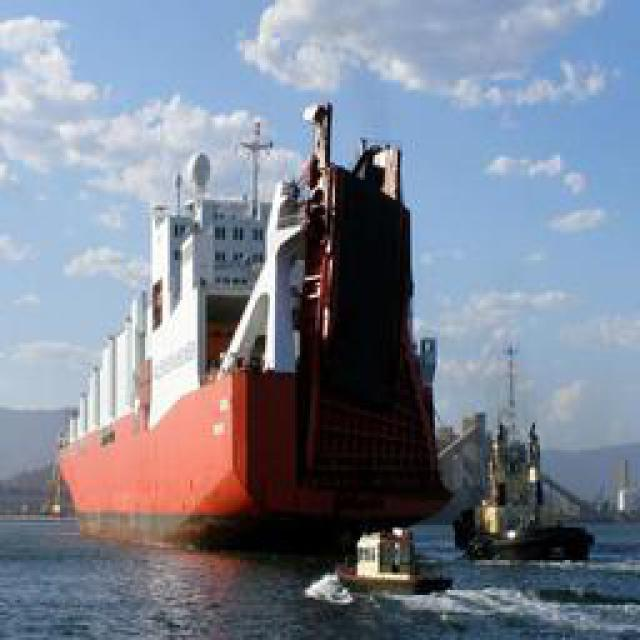Ship: (55, 72, 520, 572)
